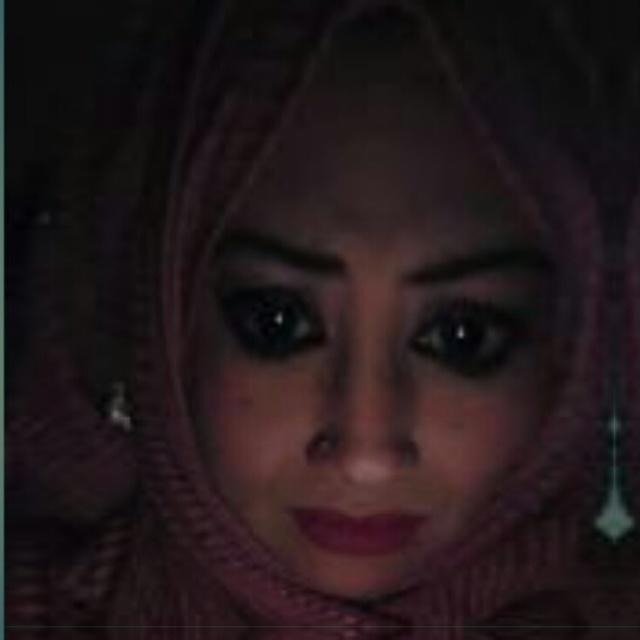Angry: (149, 156, 609, 588)
